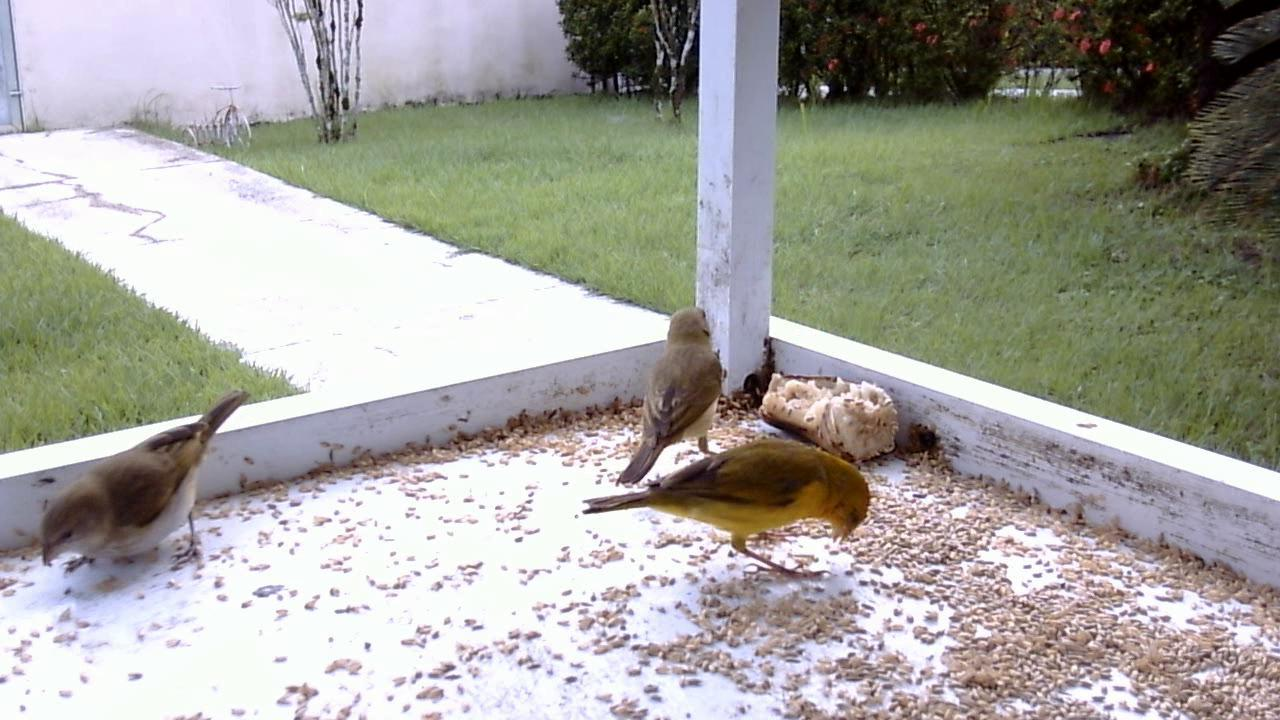canario_do_amazonas: (572, 430, 878, 589), (36, 385, 255, 592), (603, 300, 726, 493)
